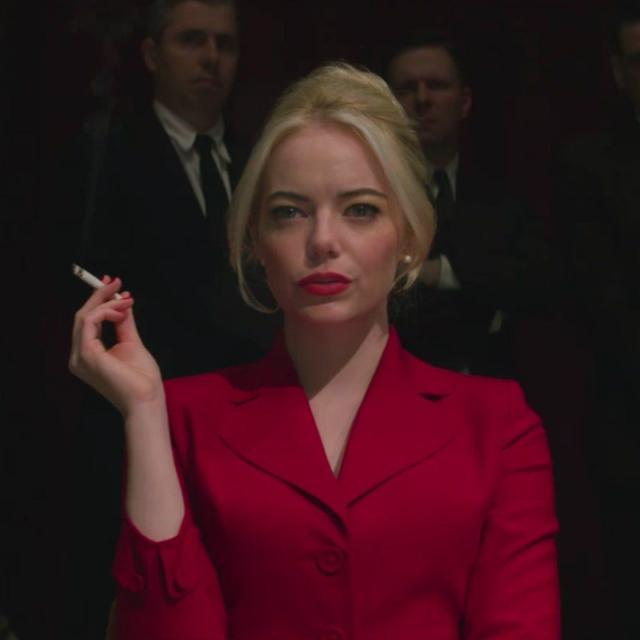rokok: (74, 263, 126, 303)
